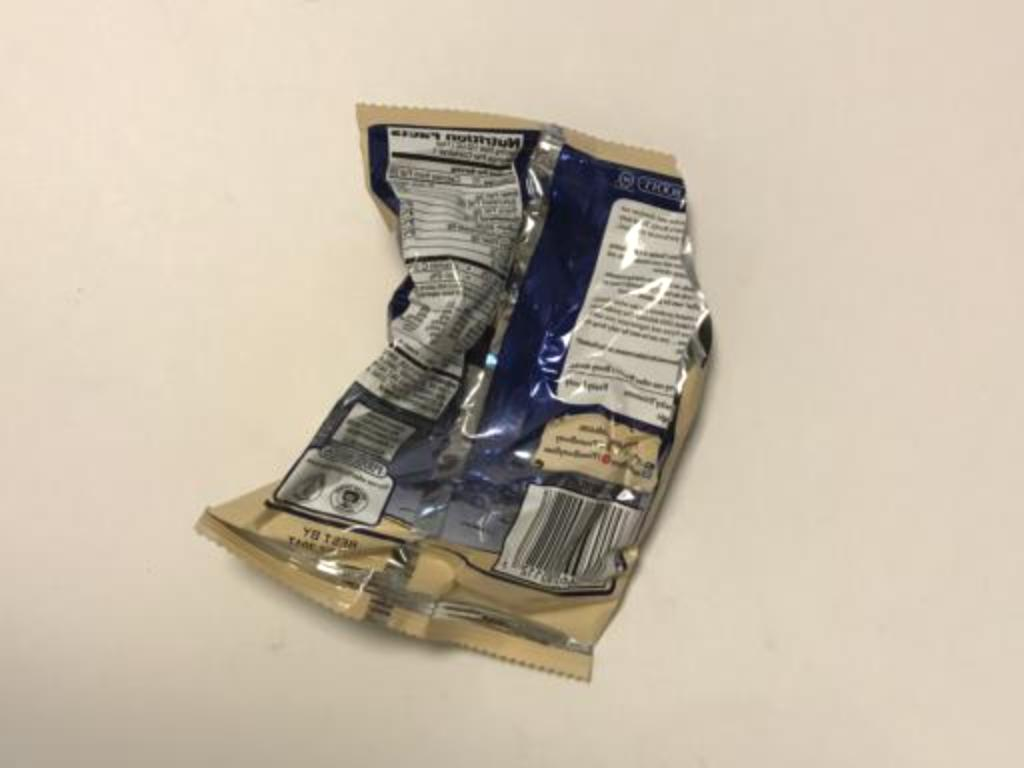garbage: (186, 87, 770, 697)
